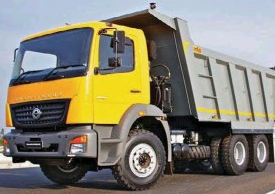truck: (2, 4, 275, 188)
